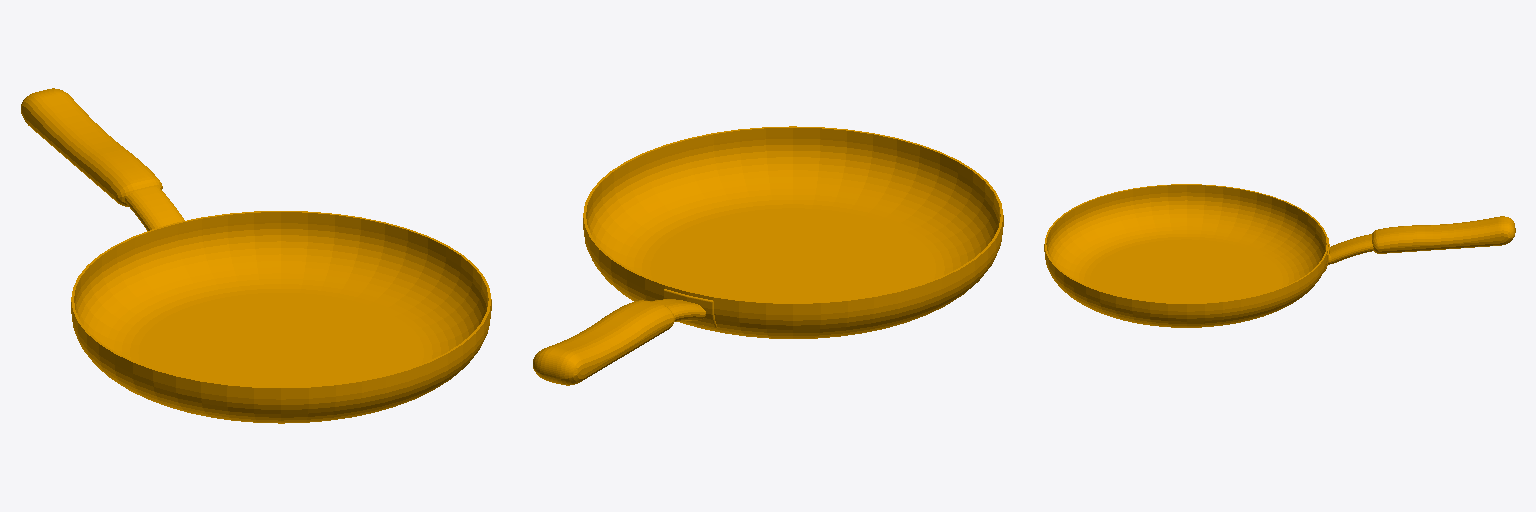
URDF robot description (spatula.urdf):
<?xml version="0.0" ?>
<robot name="spatula.urdf">
  <link name="spatula">
    <visual>
      <origin rpy="0 0 0" xyz="0 0 0.0"/>
      <geometry>
        <mesh filename="model.obj"/>
      </geometry>
      <material name="blue">
      </material>
    </visual>
    <collision>
      <origin rpy="0 0 0" xyz="0 0 0.0"/>
      <geometry>
  	<mesh filename="model_v.obj"/>
      </geometry>
    </collision>
  </link>
</robot>

--- Facts derived from the render (not from the file) ---
The picture shows the robot from 3 angles, left to right: view 1: azimuth 30°, elevation 25°; view 2: azimuth 150°, elevation 25°; view 3: azimuth 270°, elevation 25°; orthographic projection.
Robot: spatula.urdf — 1 links, 0 joints (none); root link spatula; default pose: all joints at 0.
Visible links, largest first — view 1: spatula; view 2: spatula; view 3: spatula.
Boxes of the visible links, left/top/right/bottom form: spatula: left=21, top=88, right=491, bottom=423; spatula: left=533, top=126, right=1003, bottom=385; spatula: left=1044, top=184, right=1515, bottom=327.
Bounding box of the posed robot: 0.5126 × 0.8498 × 0.1228 m (x, y, z).
1 mesh visuals loaded from 1 distinct referenced files (1 OBJ).